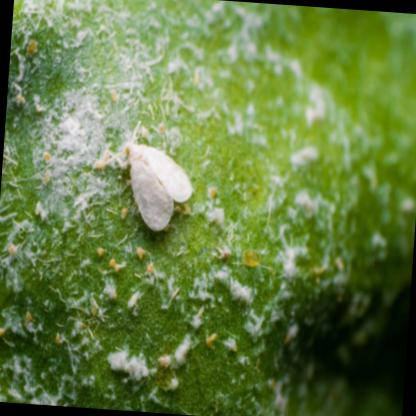whitefly: (129, 139, 193, 231)
